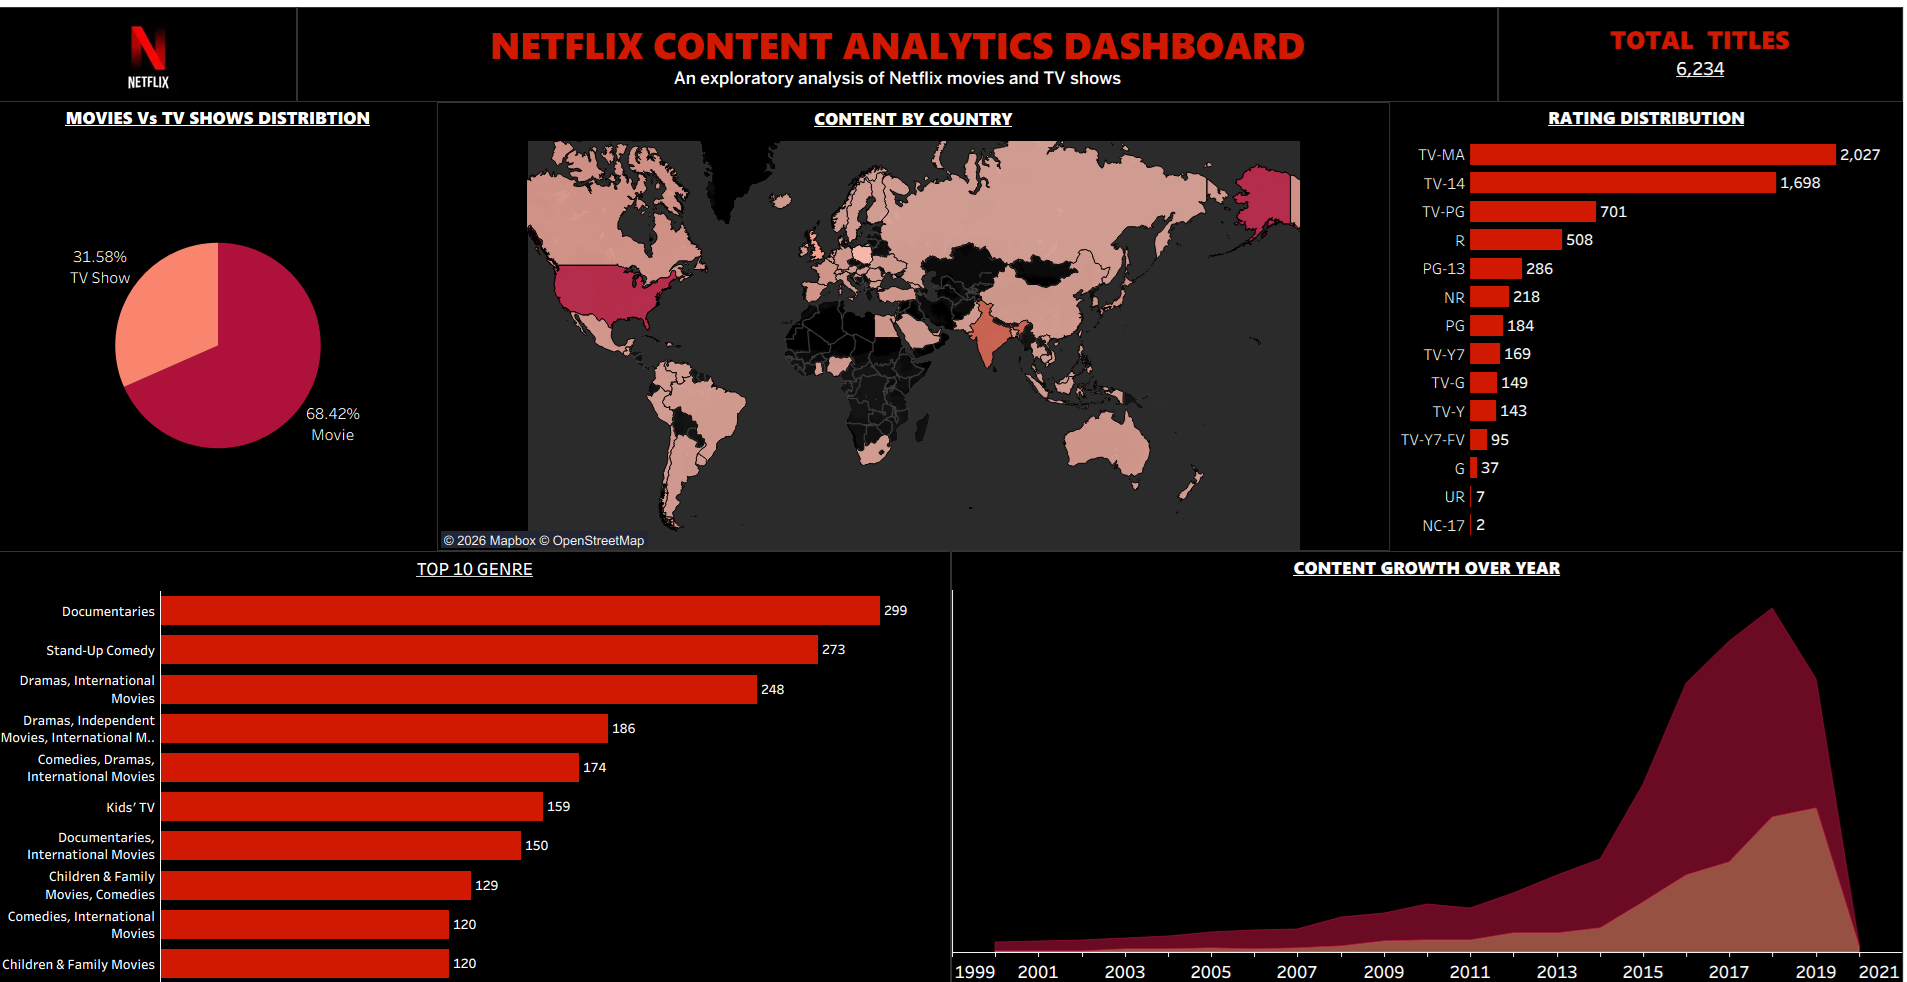

Layout of this report page (visuals, bound fields, positions):
{"tool":"tableau","page":{"name":"Netflix Content Analytics Dashboard","canvas":[1000,1000],"units":"permille","ordinal":0},"visuals":[{"type":"image","param":"Image/OIP (28).jpg","box":[4.8,10,155,94.8]},{"type":"text","box":[159.8,10,624.7,94.8]},{"type":"worksheet","title":"KPI","mark":"Automatic","box":[784.5,10,210.7,94.8]},{"type":"worksheet","title":"Movies vs TV Shows ","mark":"Pie","box":[4.8,104.8,227.8,450.7]},{"type":"worksheet","title":"Content by Country","mark":"Multipolygon","box":[232.7,104.8,495.5,450.7]},{"type":"worksheet","title":"Rating Distribution","mark":"Automatic","rows":["rating"],"cols":["show_id"],"box":[728.2,104.8,267,450.7]},{"type":"worksheet","title":"Top 10 Genre","mark":"Automatic","rows":["listed_in"],"cols":["show_id"],"box":[4.8,555.5,495.2,434.5]},{"type":"worksheet","title":"Content by Release Year","mark":"Area","rows":["show_id"],"cols":["release_year"],"box":[500,555.5,495.2,434.5]}]}

Visuals, with their boxes on the dashboard's canvas, which has no fixed pixel size, in thousandths of its width and height (x1, y1, x2, y2). These are canvas units, not pixel positions in the 1907x982 screenshot, which may show the page scaled, cropped or inside an application window:
image: detection(5, 10, 160, 105)
text: detection(160, 10, 784, 105)
"KPI" worksheet: detection(784, 10, 995, 105)
"Movies vs TV Shows " worksheet (Pie marks): detection(5, 105, 233, 556)
"Content by Country" worksheet (Multipolygon marks): detection(233, 105, 728, 556)
"Rating Distribution" worksheet: detection(728, 105, 995, 556)
"Top 10 Genre" worksheet: detection(5, 556, 500, 990)
"Content by Release Year" worksheet (Area marks): detection(500, 556, 995, 990)
